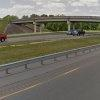Bridge: (8, 10, 100, 27)
